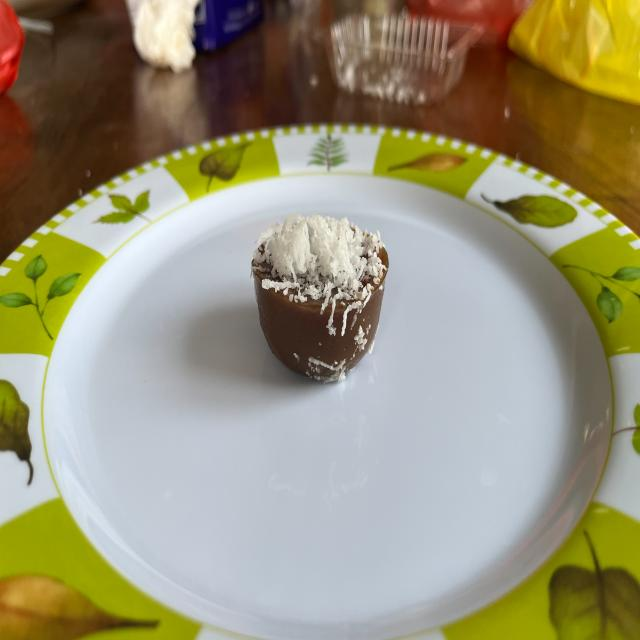Kuih lompang: (251, 213, 389, 380)
